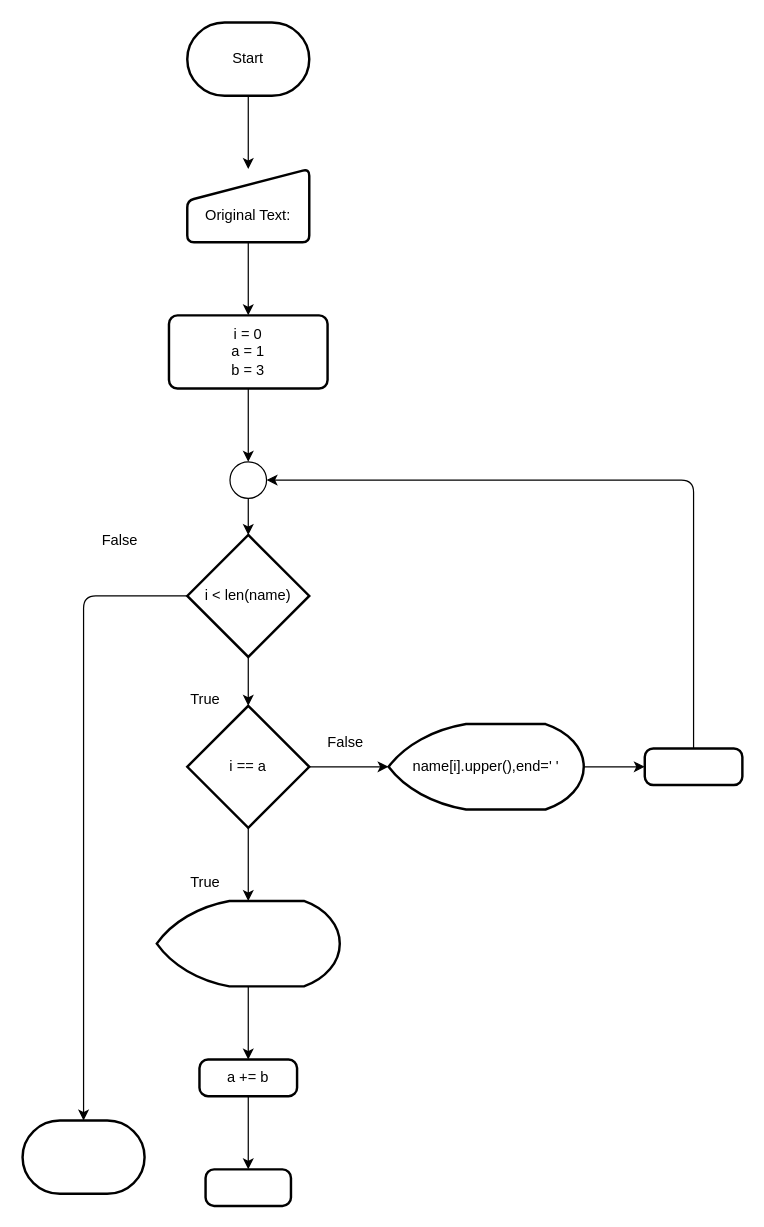
The diagram is 764 pixels wide and 1227 high, and some of its shapes have lost their labels. The centre of each missing label's shape, as x and y in pixels:
"b += 1" goes at (x=248, y=1187).
"End" goes at (x=83, y=1156).
"i = i+1" goes at (x=693, y=766).
"name[i].lower(),end=' '" goes at (x=247, y=943).
